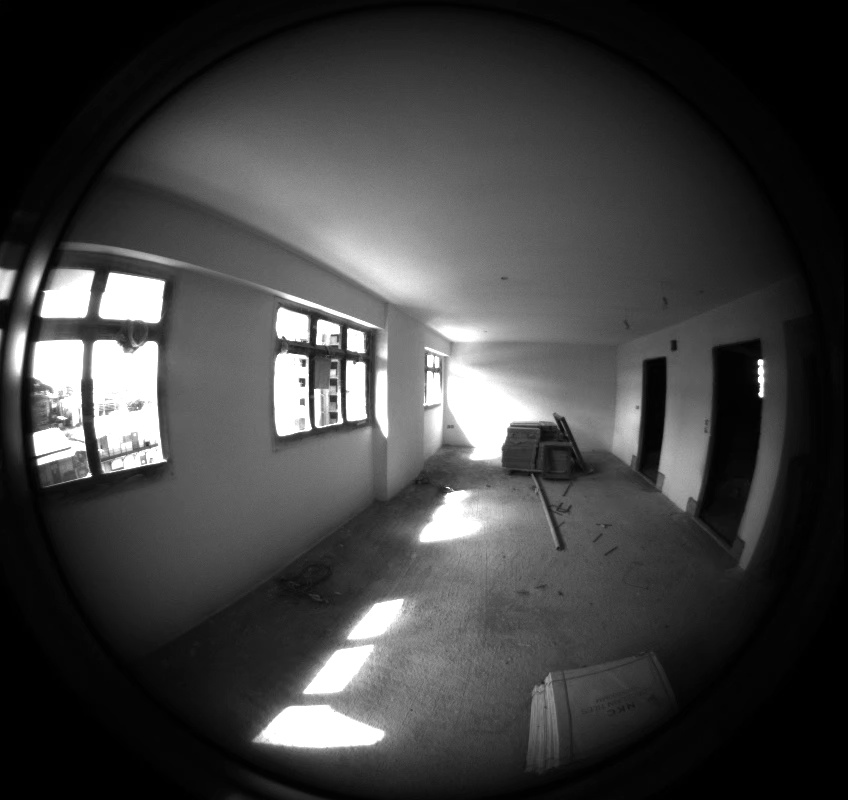Building materials: (149, 120, 675, 772), (71, 56, 571, 478)
Ceiling: (0, 0, 793, 343)
Door: (64, 202, 763, 542), (28, 125, 664, 482)
Wall: (140, 346, 746, 785), (171, 108, 615, 449)
Windows: (18, 54, 442, 406), (97, 132, 371, 435), (30, 219, 164, 484)
